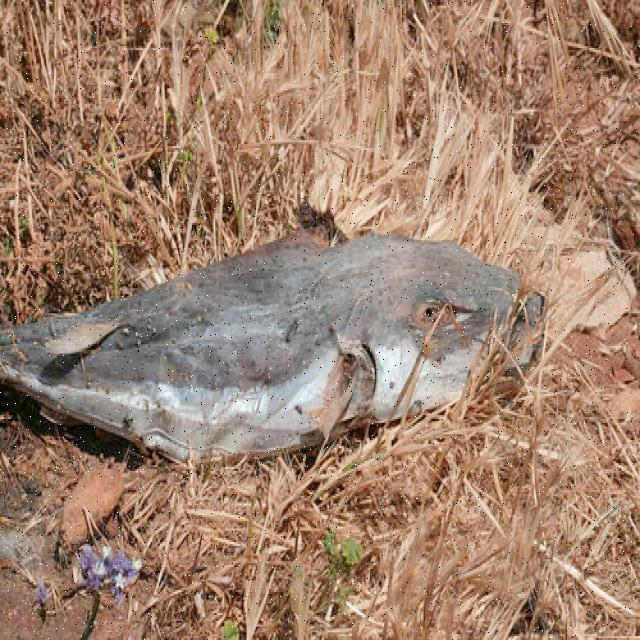Balik: (0, 229, 544, 457)
